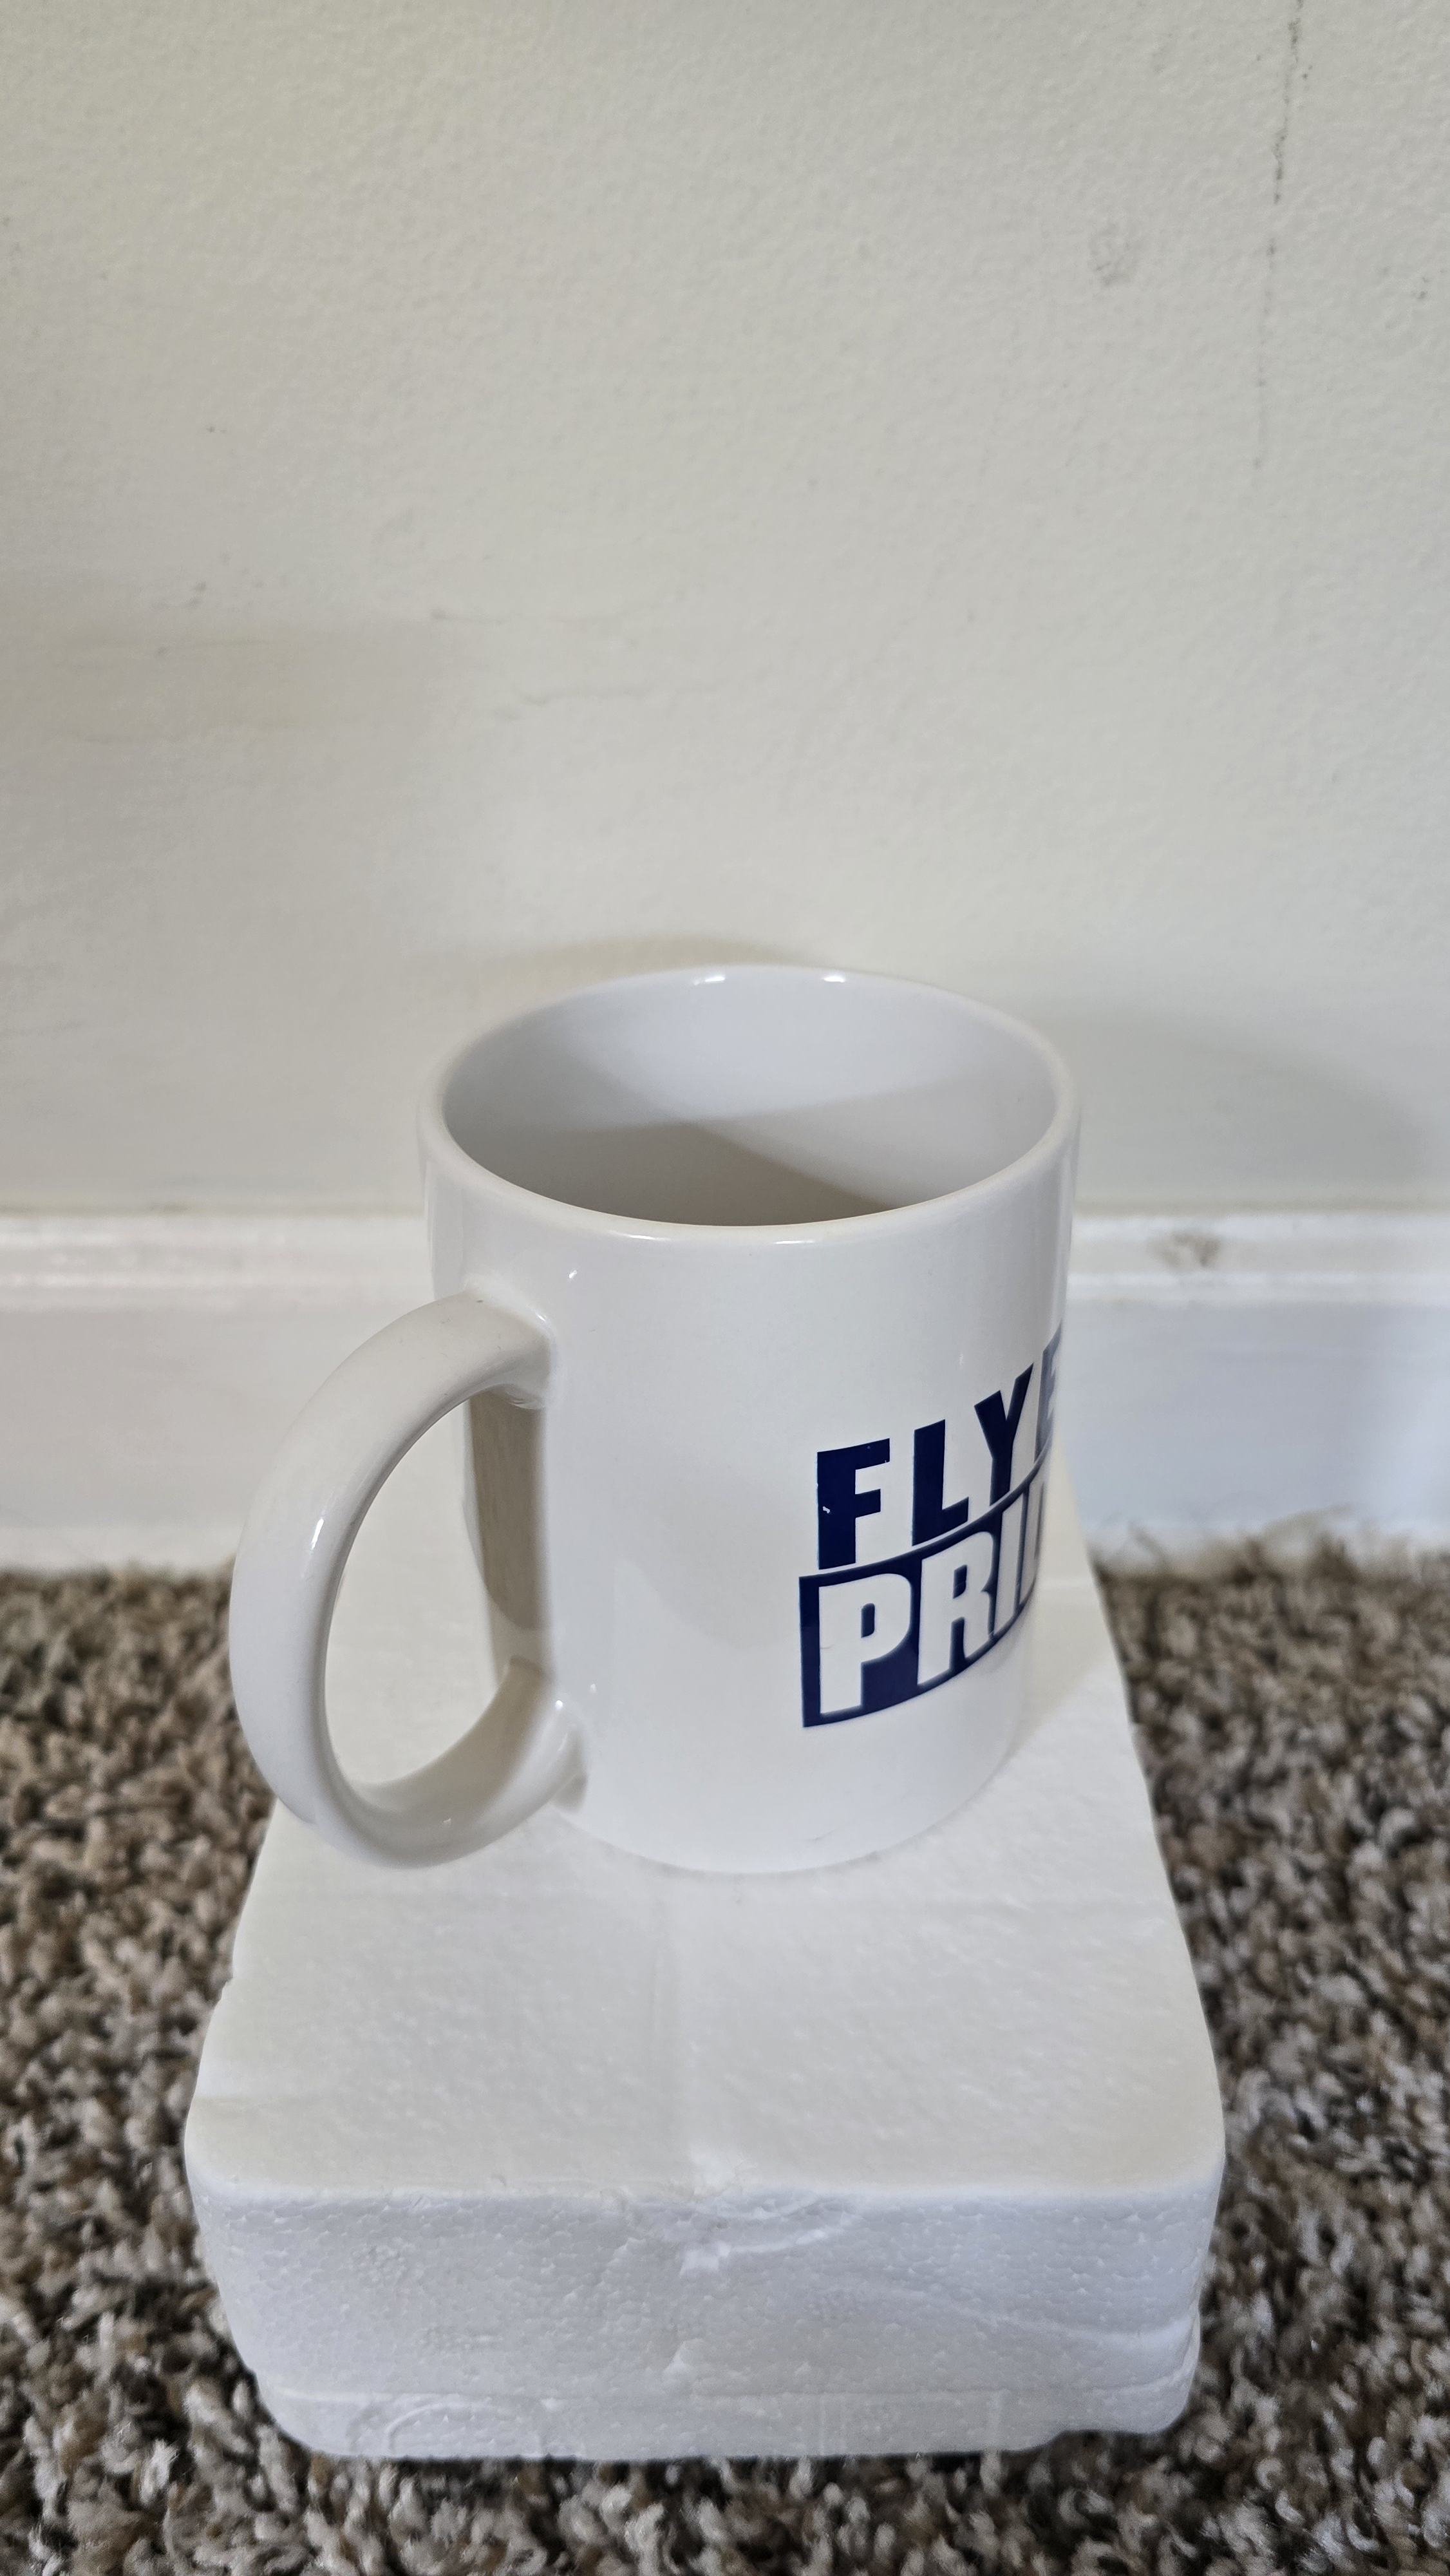mug: (214, 847, 1176, 1959)
